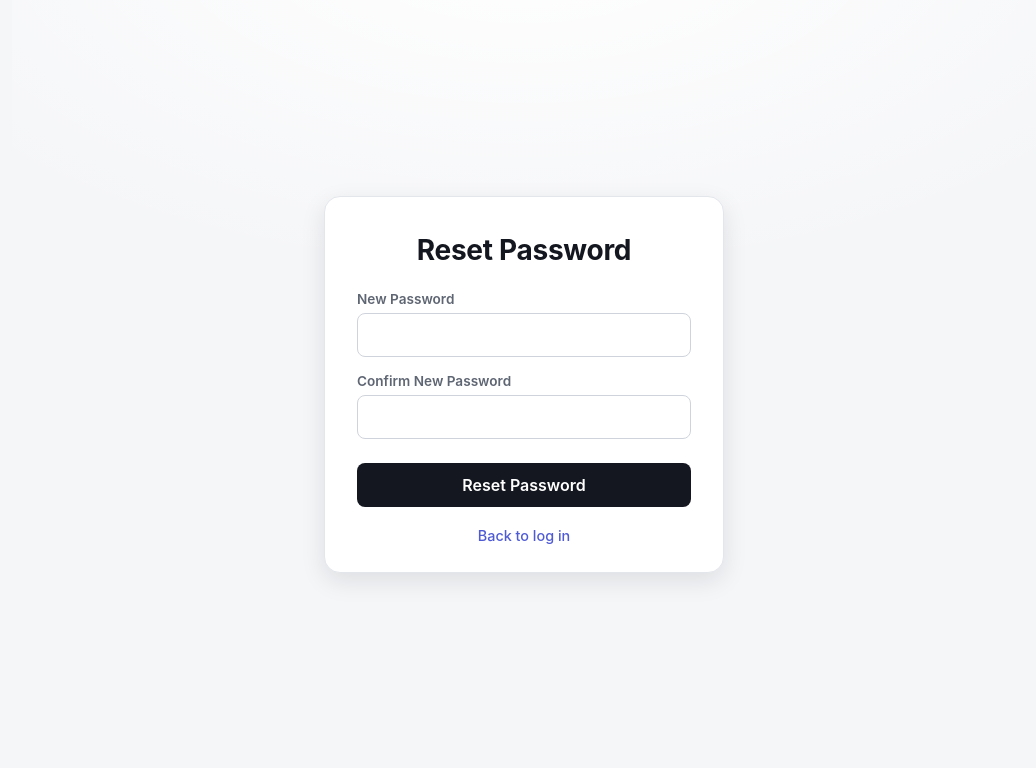
Test: resetting the password while logged in lands on the login screen with the notice
Type "newpass1" into the password field labelled "New Password" at x=524, y=334, box [357, 312, 691, 356]
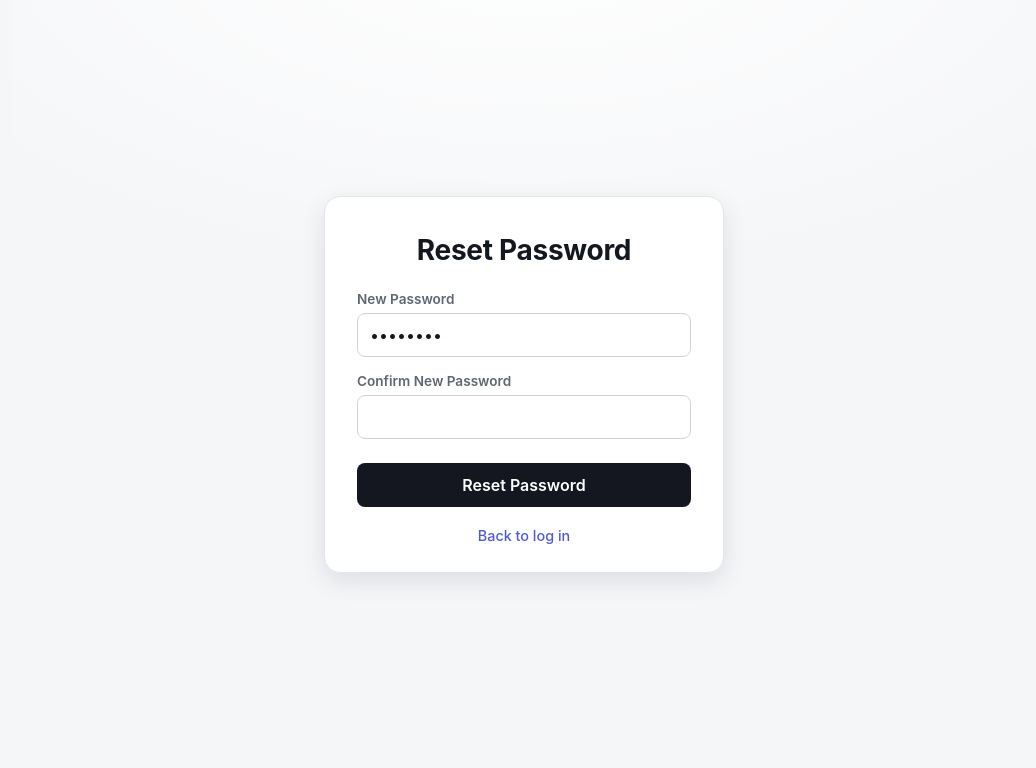
Type "newpass1" into the password field labelled "Confirm New Password" at x=524, y=416, box [357, 394, 691, 438]
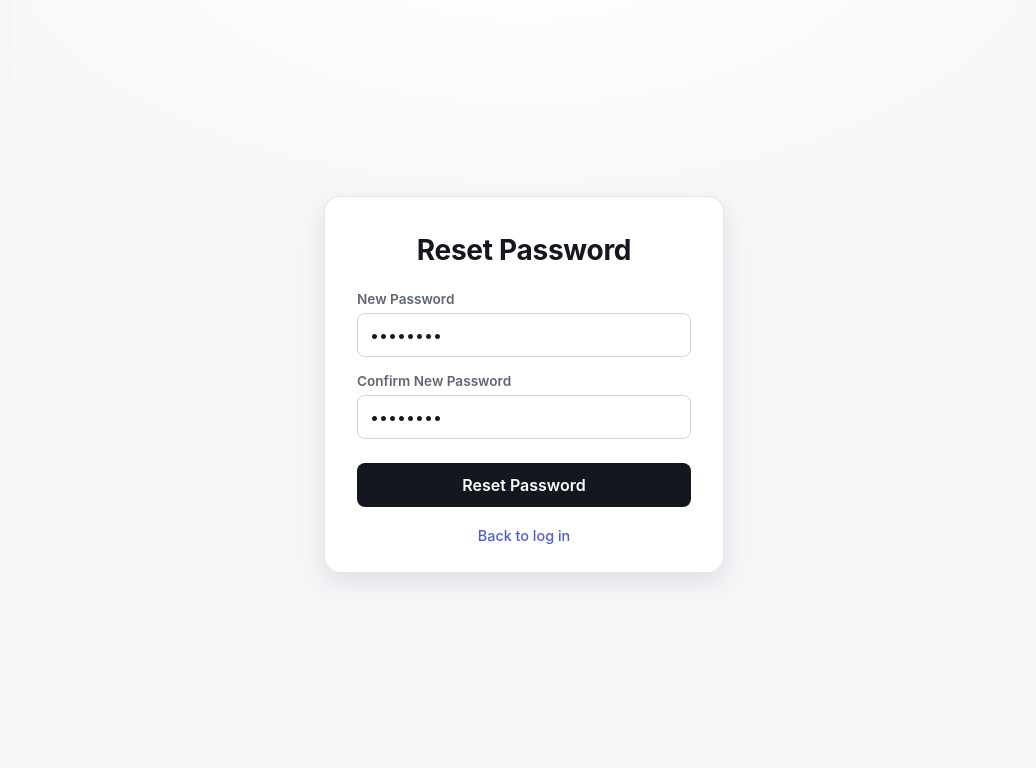
Click the button "Reset Password" at x=524, y=484, box [357, 462, 691, 506]
(page scrolled)
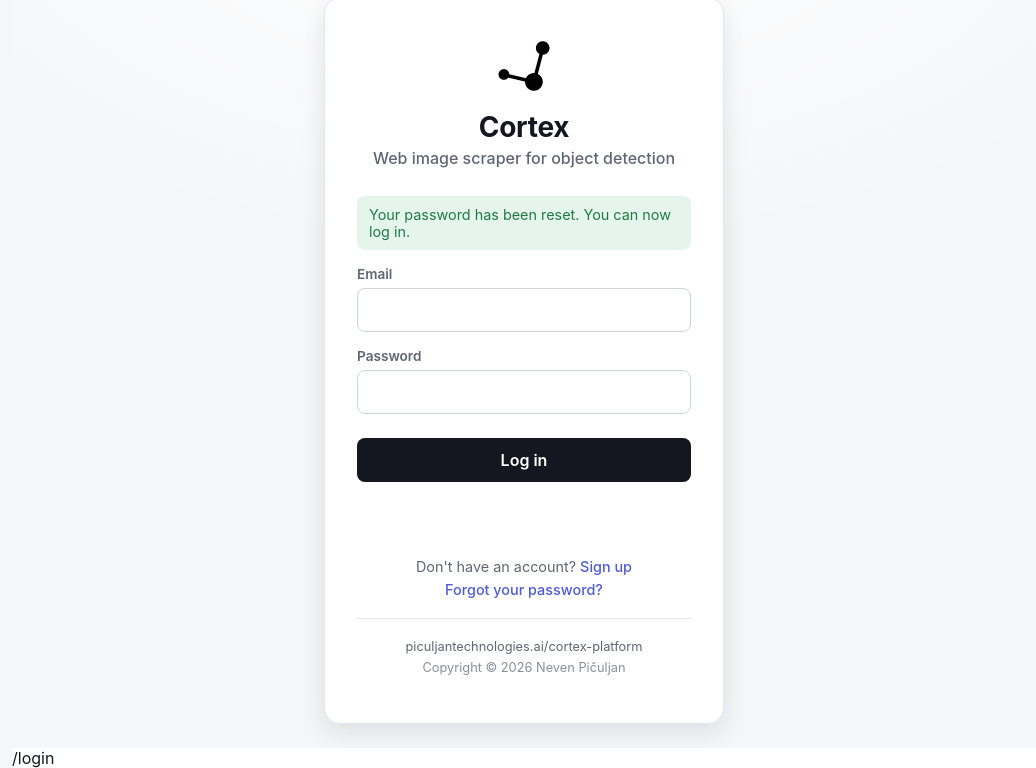
Check: the text "Your password has been reset. You can now log in." is shown, box [357, 196, 691, 250]
Check: the text with test id "location" reads "/login", box [12, 748, 54, 767]
